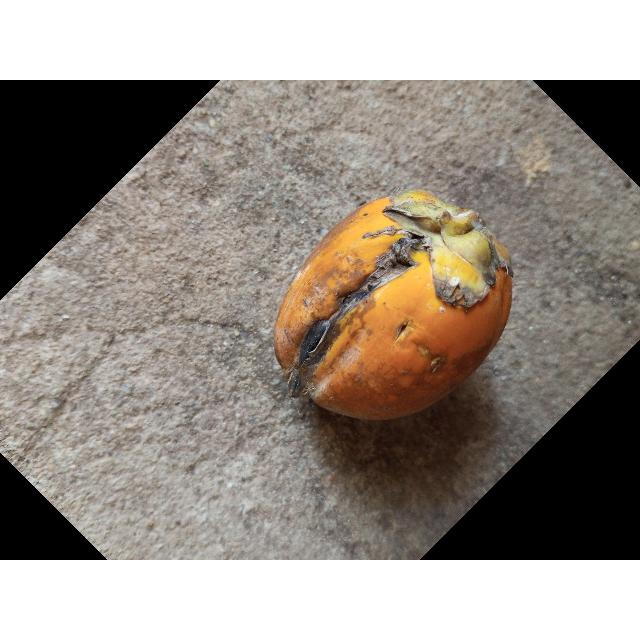damaged: (275, 189, 514, 420)
